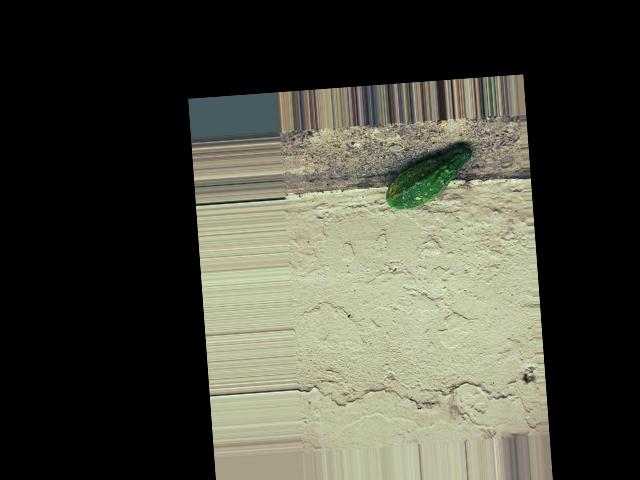cucumber: (382, 143, 474, 211)
